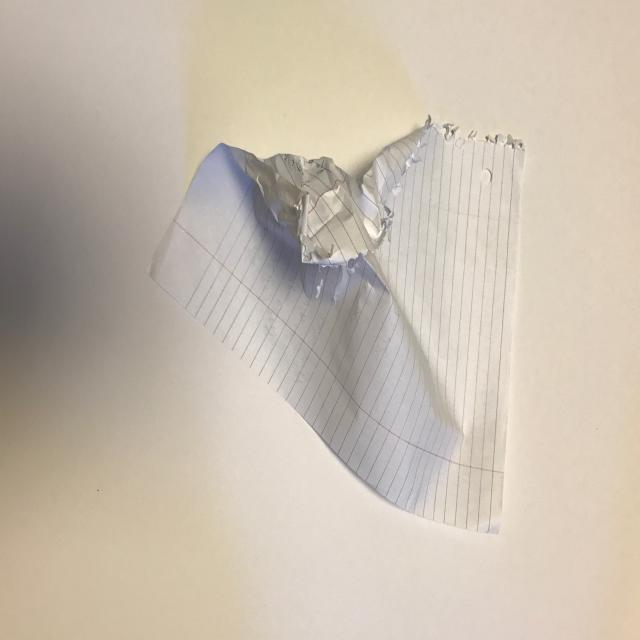paper: (110, 49, 558, 570)
